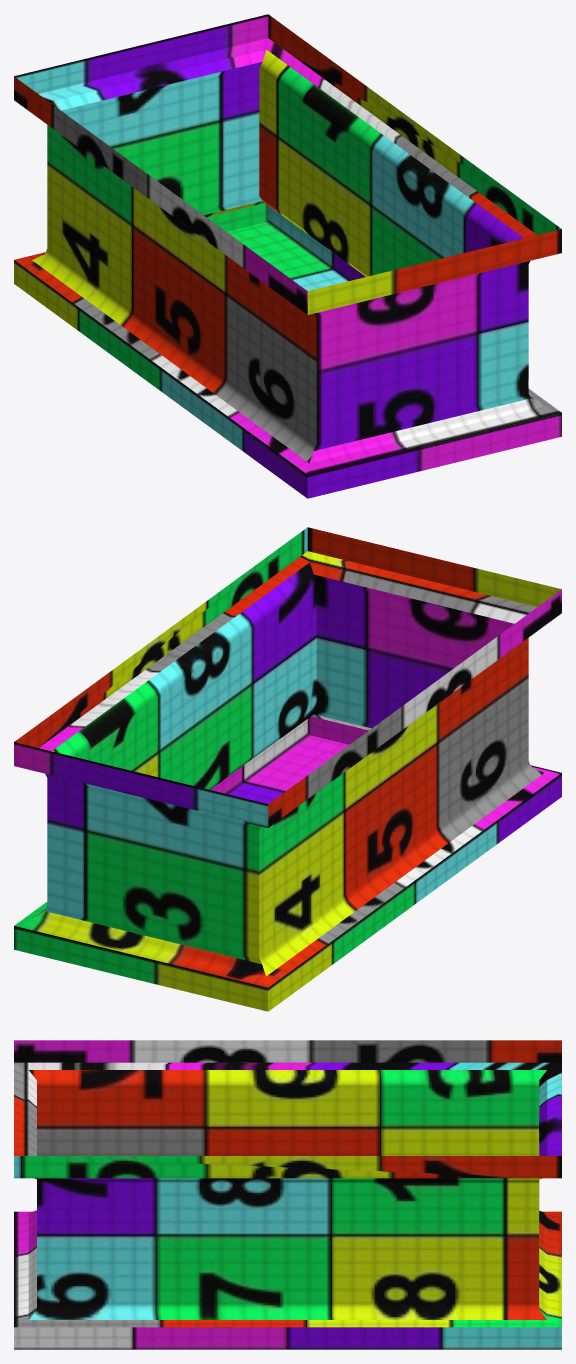
The model's file is altar.fbx.
The picture shows the model from 3 angles, top to bottom: view 1: azimuth 30°, elevation 25°; view 2: azimuth 150°, elevation 25°; view 3: azimuth 270°, elevation 25°; orthographic projection. The views are drawn at different scales.
Visible parts, largest first — view 1: pCube1; view 2: pCube1; view 3: pCube1.
Part boxes in pixels (x1,y1,x2,y2): pCube1: [14, 14, 561, 498]; pCube1: [14, 527, 561, 1011]; pCube1: [14, 1040, 561, 1349].
Bounding box in the file's own units: 200 × 156 × 400.
1 material, 1 textured.
